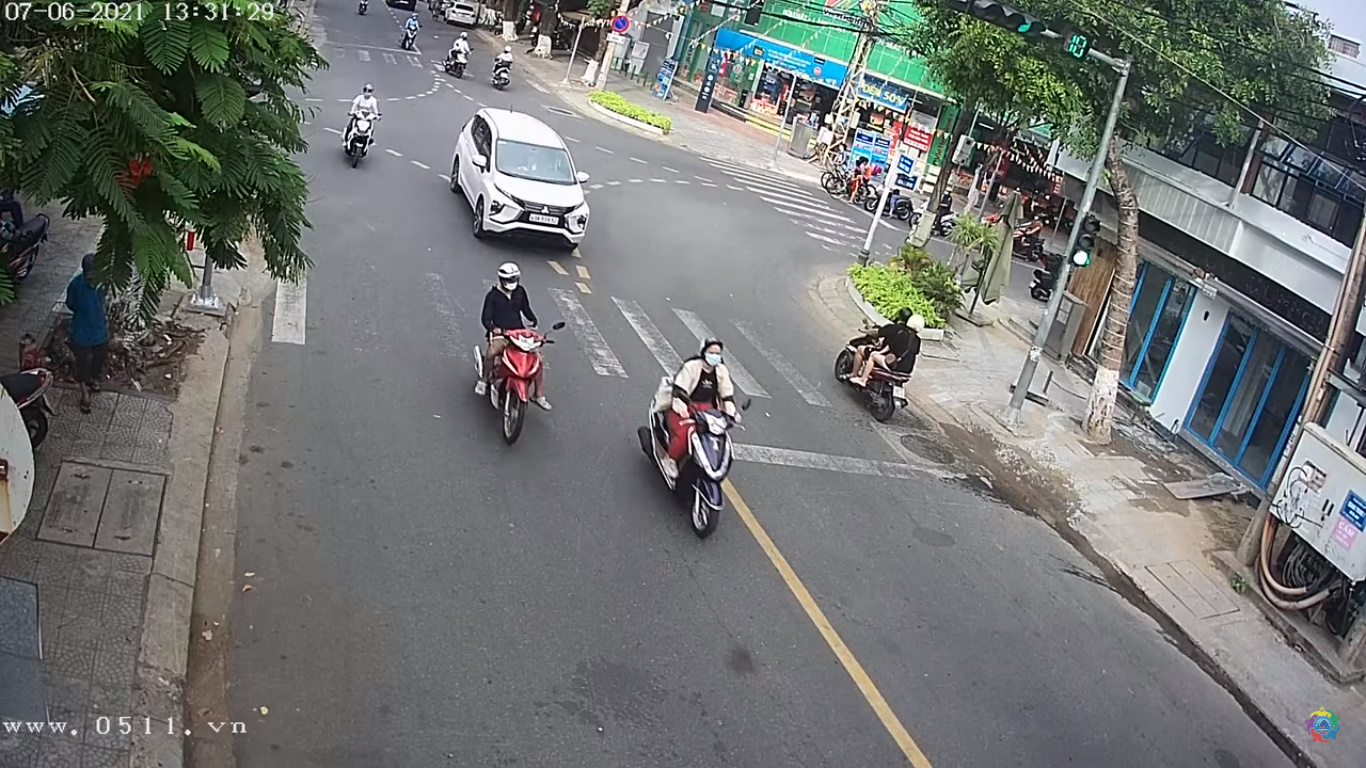car: (448, 107, 591, 247)
motorbike: (644, 341, 743, 530), (469, 269, 559, 440)
